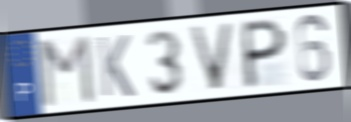3: (145, 28, 186, 96)
6: (294, 12, 333, 86)
K: (95, 33, 137, 100)
M: (39, 33, 96, 110)
P: (241, 16, 289, 91)
V: (186, 21, 237, 93)
